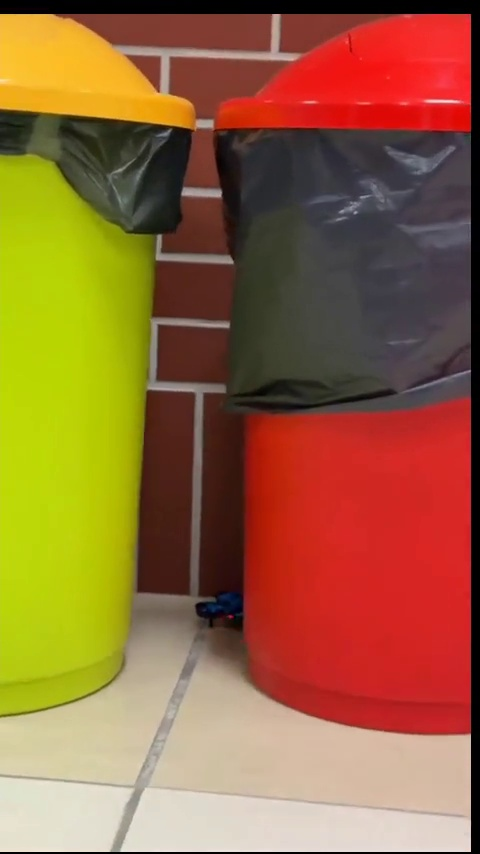drone: (195, 591, 241, 627)
